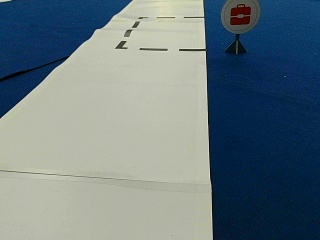company: (221, 0, 260, 32)
